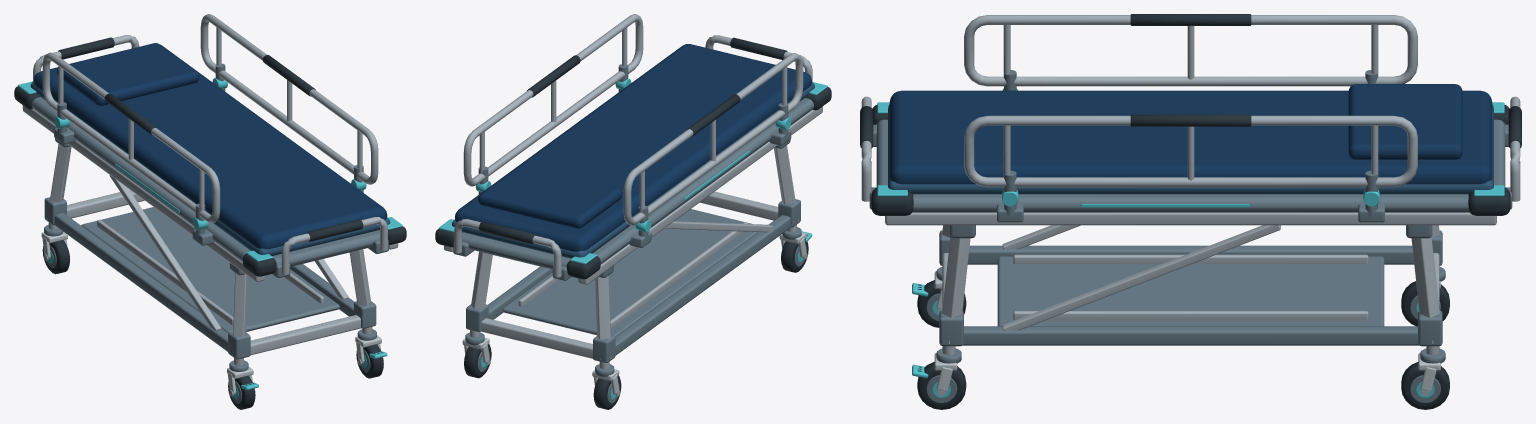
Rendered from Medical_Stretcher.glb.
3 renders of one model, left to right at view 1: azimuth 30°, elevation 25°; view 2: azimuth 150°, elevation 25°; view 3: azimuth 270°, elevation 25°, orthographic. The views are drawn at different scales.
Parts seen in each view (by area): view 1: Stretcher_Mattress, Stretcher_Legs, Stretcher_Rails, Stretcher_Frame, Stretcher_Wheels; view 2: Stretcher_Mattress, Stretcher_Legs, Stretcher_Rails, Stretcher_Frame, Stretcher_Wheels; view 3: Stretcher_Mattress, Stretcher_Legs, Stretcher_Rails, Stretcher_Frame, Stretcher_Wheels.
Boxes of the visible parts, box(x1,y1,x2,y2) form: Stretcher_Mattress: box(30, 43, 390, 255); Stretcher_Legs: box(44, 138, 376, 359); Stretcher_Rails: box(33, 14, 387, 274); Stretcher_Frame: box(14, 81, 406, 281); Stretcher_Wheels: box(41, 222, 387, 409); Stretcher_Mattress: box(452, 44, 814, 258); Stretcher_Legs: box(466, 139, 800, 362); Stretcher_Rails: box(454, 14, 812, 277); Stretcher_Frame: box(435, 82, 831, 284); Stretcher_Wheels: box(462, 224, 812, 409); Stretcher_Mattress: box(888, 84, 1493, 194); Stretcher_Legs: box(939, 225, 1442, 346); Stretcher_Rails: box(860, 14, 1521, 222); Stretcher_Frame: box(869, 102, 1512, 225); Stretcher_Wheels: box(912, 267, 1449, 409).
Bounding box in the file's own units: 0.798 × 1.05 × 2.09.
